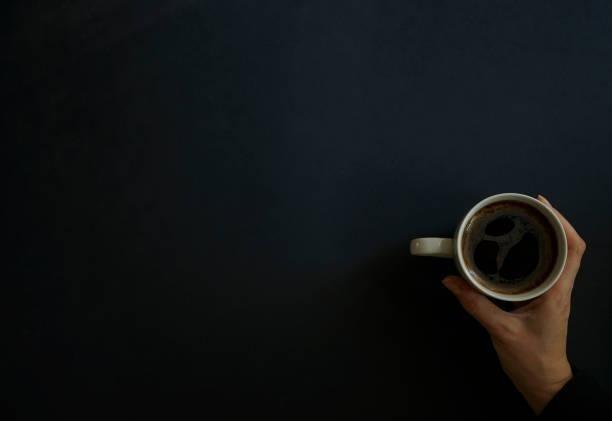cup-handle: (409, 192, 569, 309)
